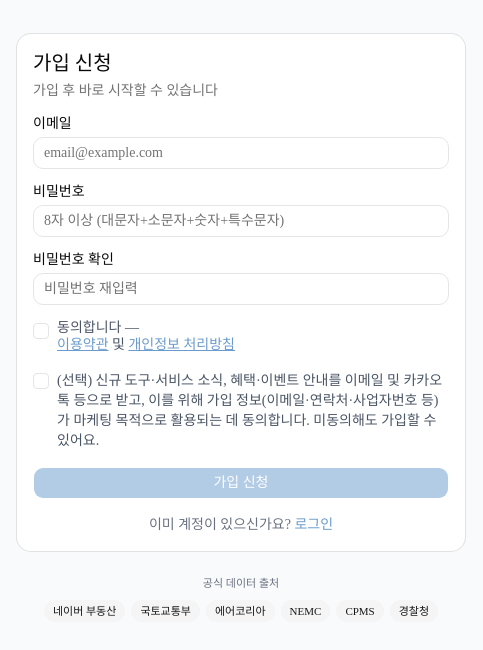
Test: SignupPage › 가입 성공 시 EmptyState '가입 신청이 접수되었습니다' 표시
Type "test@example.com" into the field labelled "이메일".
click(241, 153); type("test@example.com")  # box [33,137,449,169]
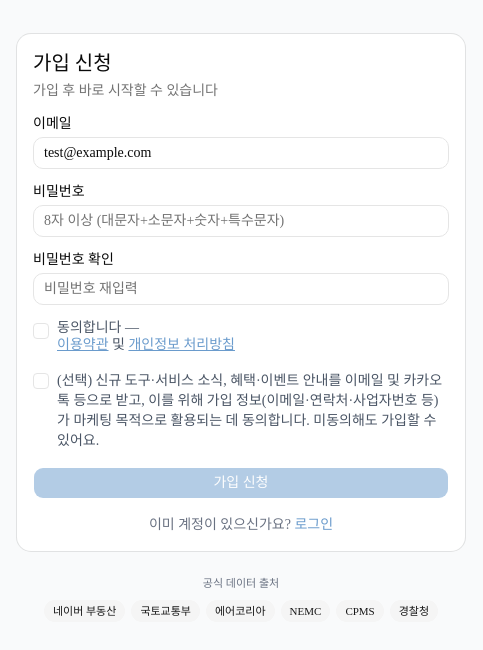
Type "Strong1!@#" into the password field labelled "비밀번호".
click(241, 221); type("Strong1!@#")  # box [33,205,449,237]
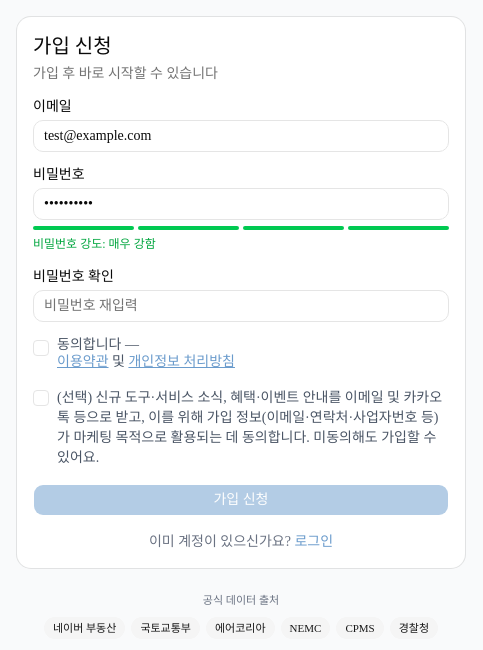
Type "Strong1!@#" into the password field labelled "비밀번호 확인".
click(241, 306); type("Strong1!@#")  # box [33,290,449,322]
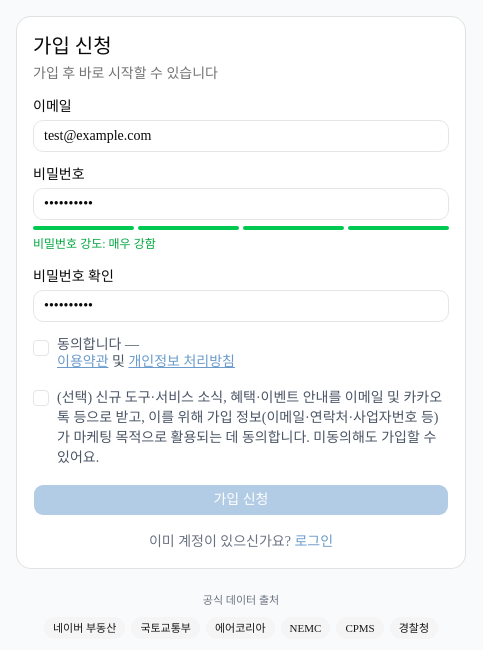
Click the checkbox next to "동의합니다 —".
click(41, 348)  # box [33,340,49,356]
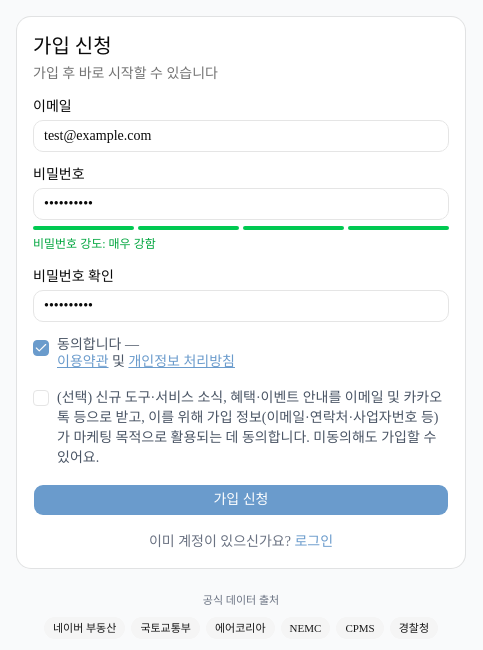
Result: the button "가입 신청" is enabled
Click the button "가입 신청".
click(241, 500)  # box [33,484,449,516]
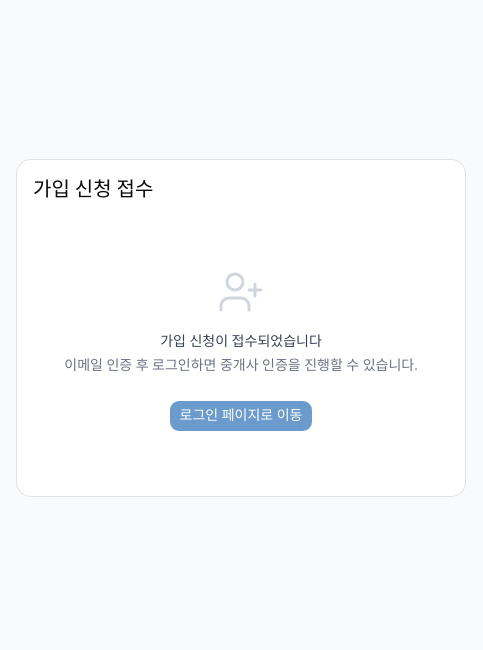
Result: the text "가입 신청이 접수되었습니다" is shown at [160,334,322,349]
